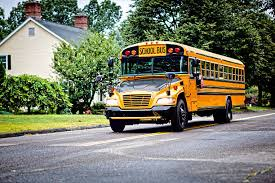bus: (104, 39, 247, 133)
